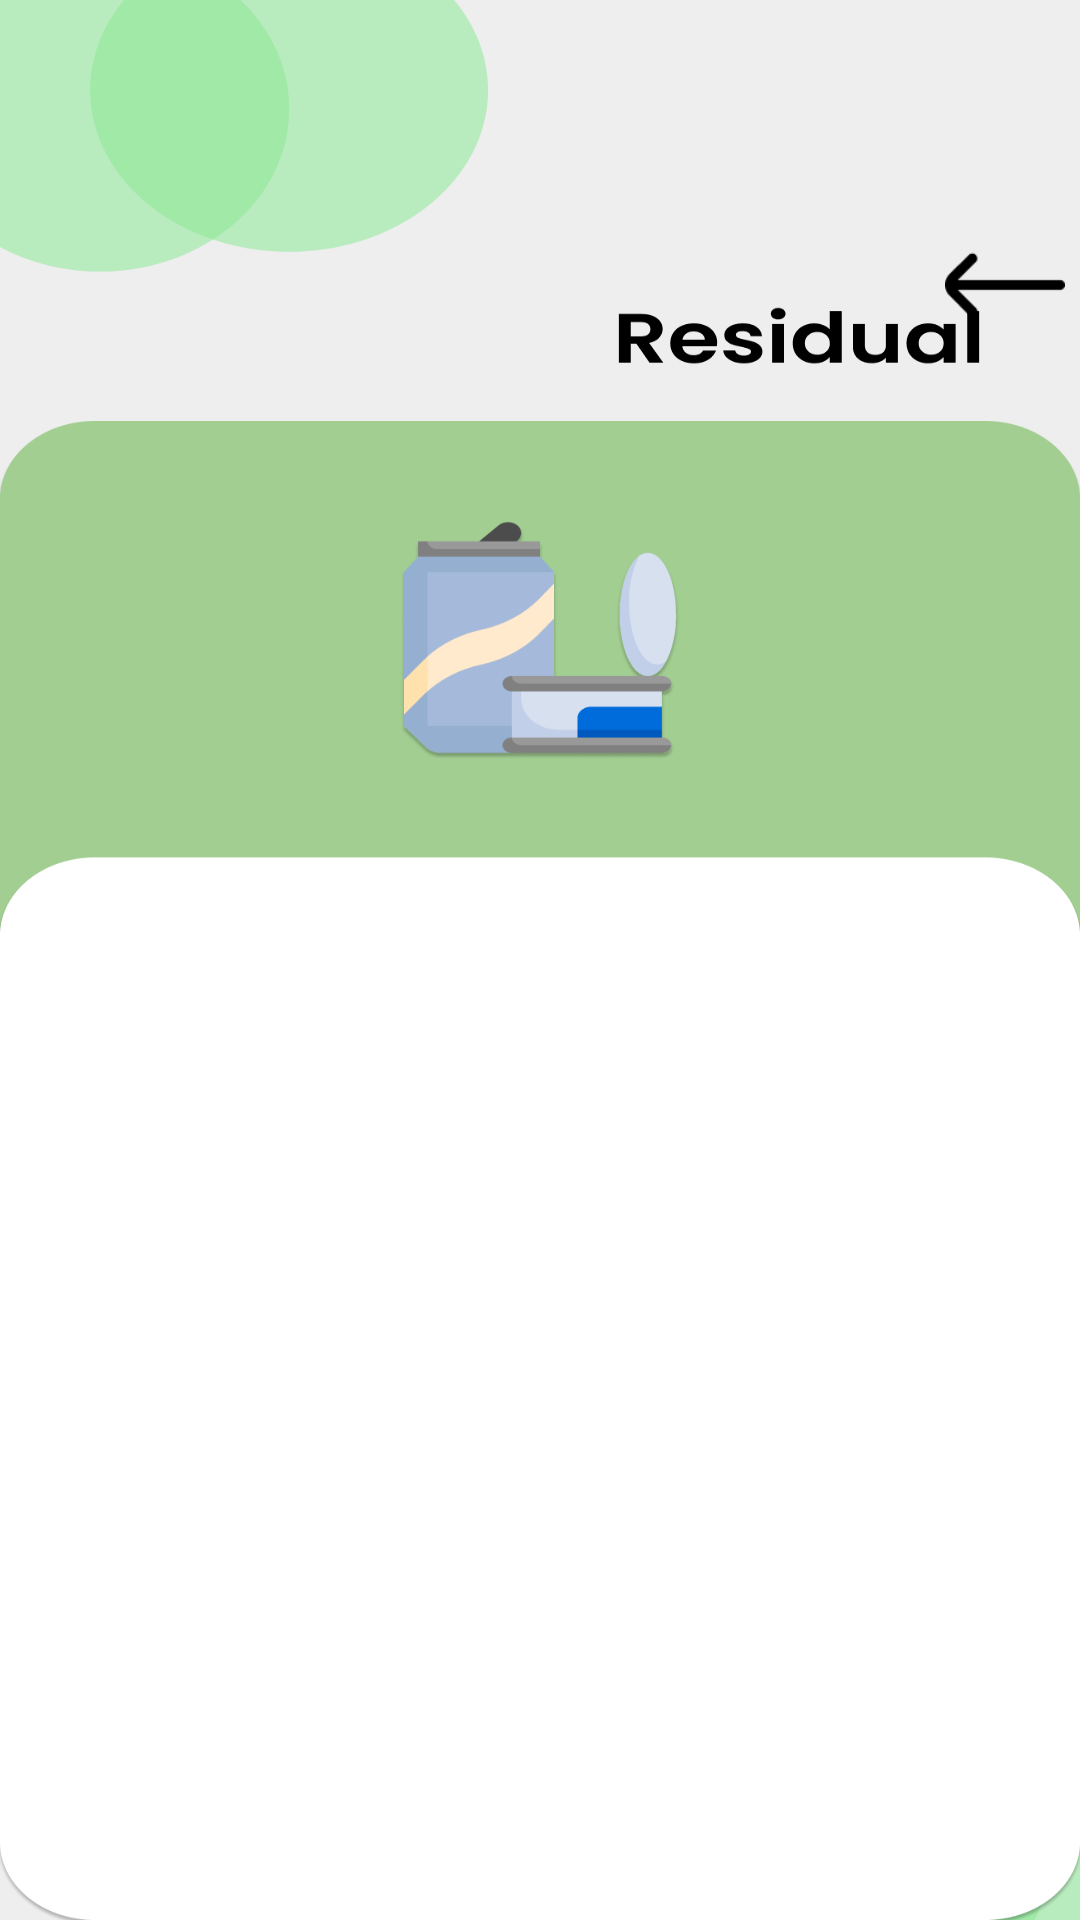

Screen size 1080px×1920px. Icon name, then its box in pixels as BBox(x1, y1, x2, y2):
Back: BBox(945, 253, 1065, 345)
